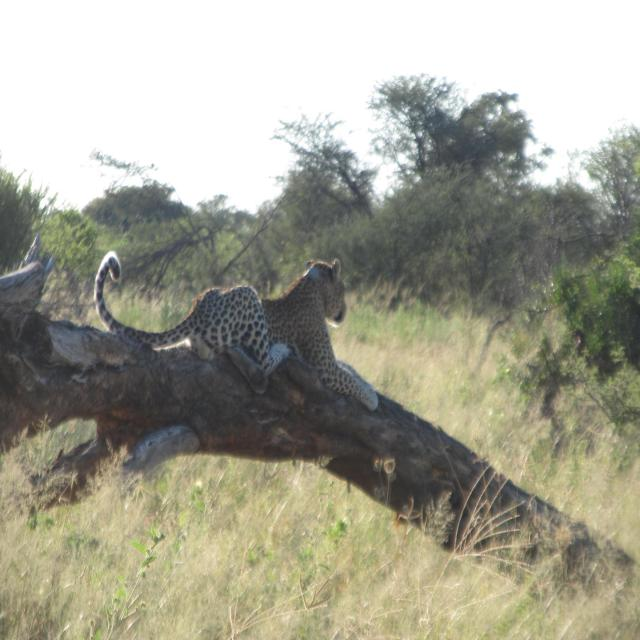Leopard: (98, 256, 377, 418)
